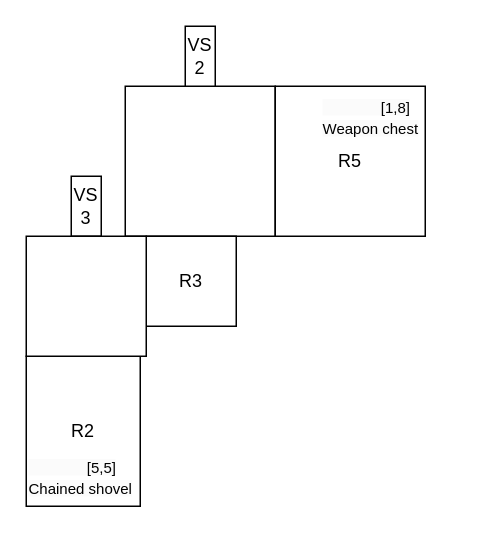
Some shapes in this 497 by 548 pixel diagram are drawn without their labels. Here are the shapes that lost their labels. From the top down, the centre of each, then its label:
At [199,160]: "R4".
At [85,295]: "R1".
